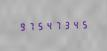five: (35, 20, 43, 31), (80, 19, 88, 29)
four: (44, 20, 52, 31), (71, 19, 79, 30)
nine: (17, 21, 25, 31)
seven: (26, 20, 34, 31), (53, 20, 61, 30)
three: (62, 19, 70, 30)
